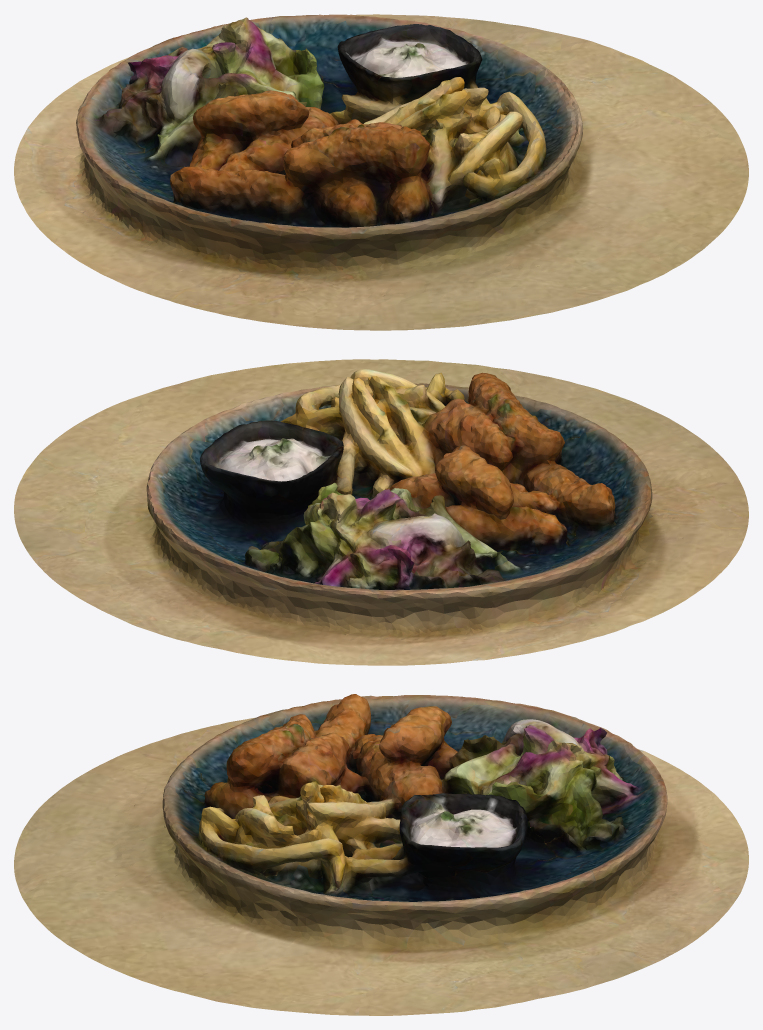
File: fishfingers-final.glb
The picture shows the model from 3 angles, top to bottom: view 1: azimuth 30°, elevation 25°; view 2: azimuth 150°, elevation 25°; view 3: azimuth 270°, elevation 25°; orthographic projection.
Size of the model in its own units: 0.3993 by 0.063 by 0.3994.
1 material, 1 textured.
